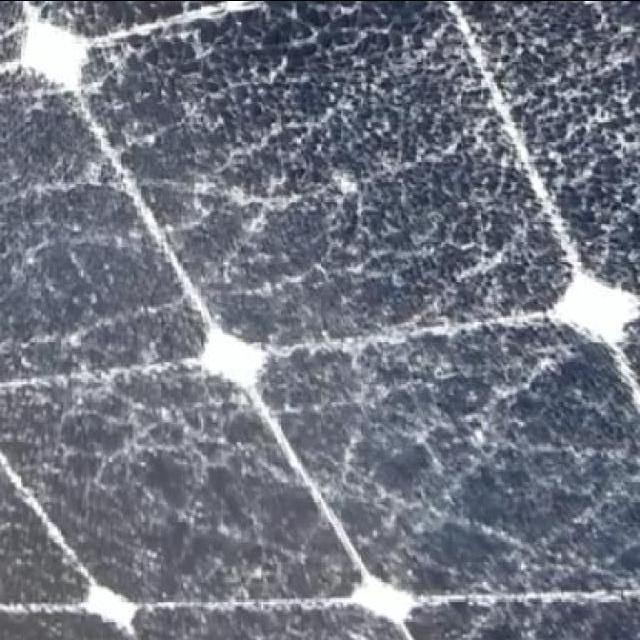cracked: (1, 2, 640, 635)
